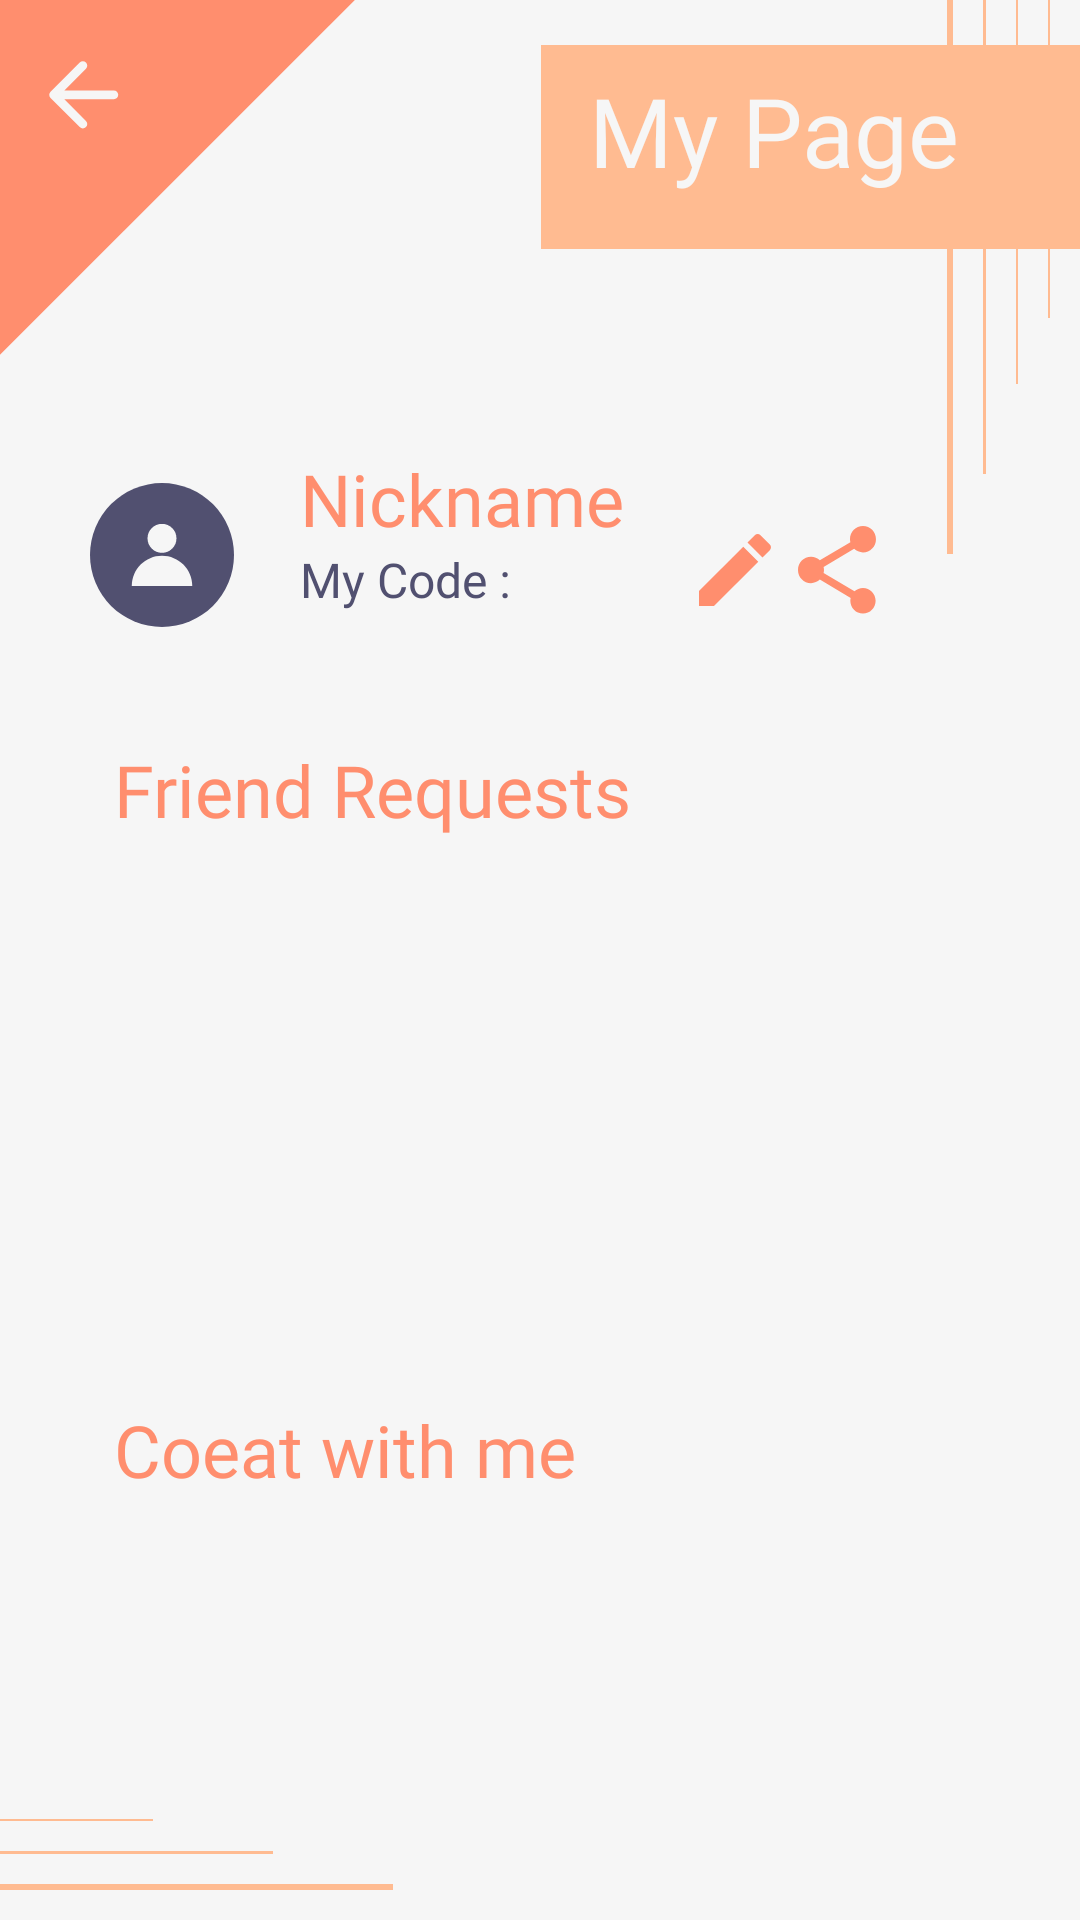

Icon click points for this 1080px x 1920px phone screenshot, format (x=x, y=y):
arrow back: (x=83, y=95)
edit: (x=735, y=570)
share salmon: (x=837, y=570)
